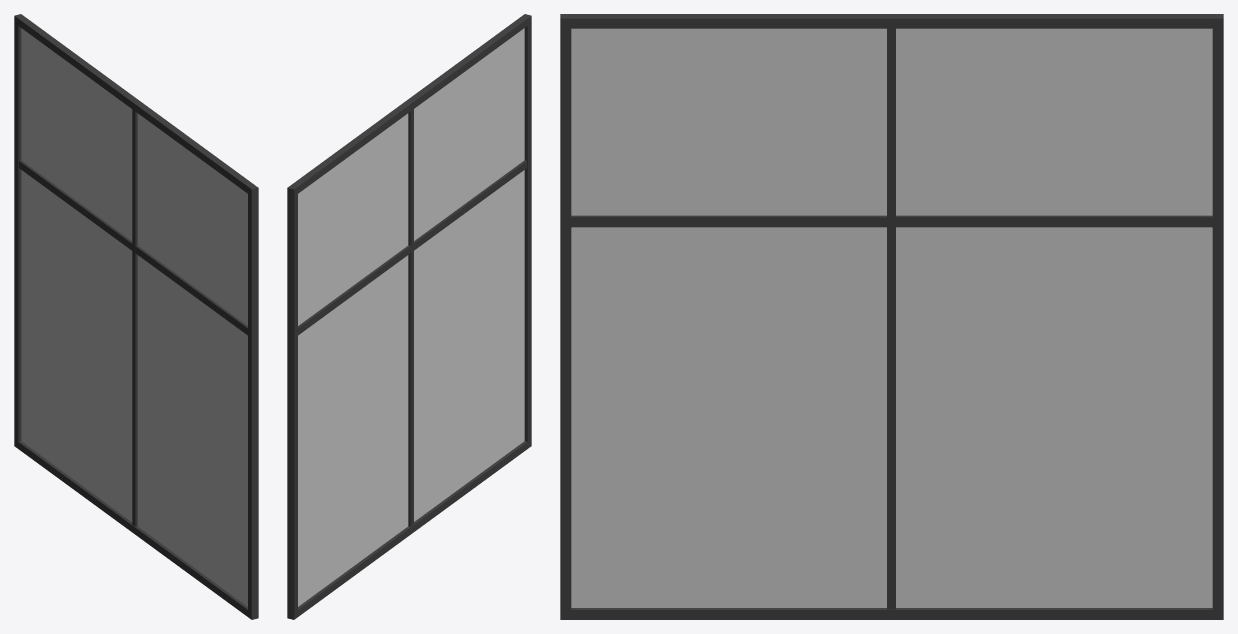
The model's file is Seperator04.fbx.
The picture shows the model from 3 angles, left to right: view 1: azimuth 30°, elevation 25°; view 2: azimuth 150°, elevation 25°; view 3: azimuth 270°, elevation 25°; orthographic projection. The views are drawn at different scales.
Parts seen in each view (by area): view 1: Seperator04; view 2: Seperator04; view 3: Seperator04.
Part boxes in pixels (x1=…): Seperator04: x1=14, y1=14, x2=258, y2=619; Seperator04: x1=287, y1=14, x2=531, y2=619; Seperator04: x1=560, y1=14, x2=1223, y2=619.
Bounding box in the file's own units: 0.0501 × 3 × 3.
